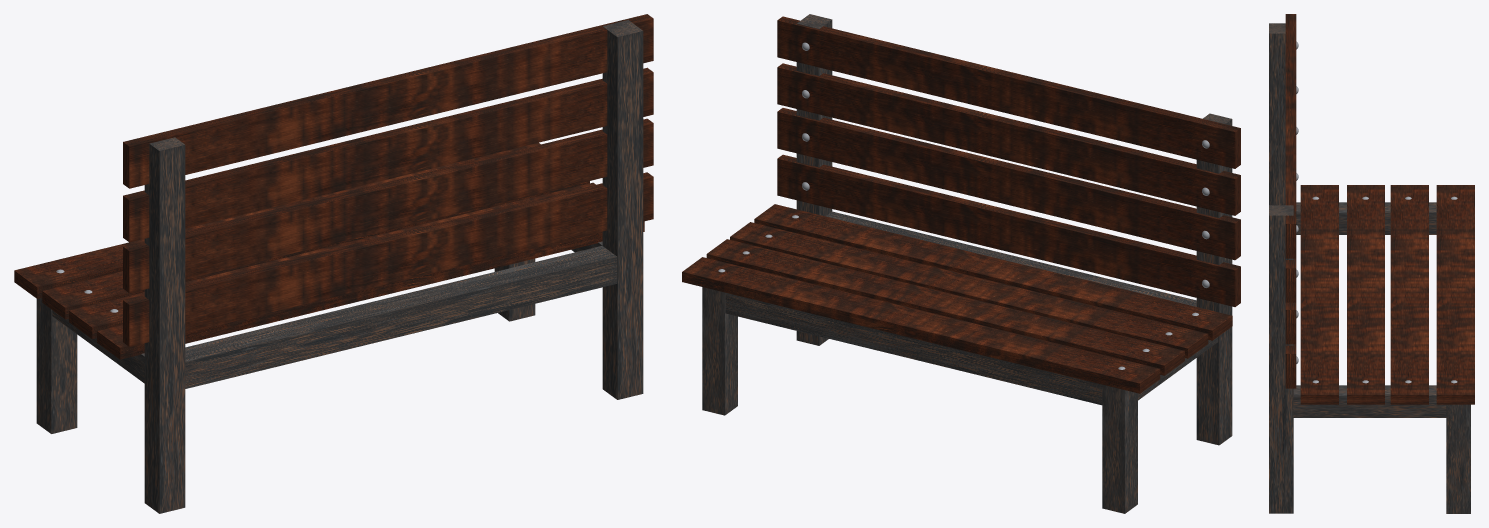
Rendered from bench.glb.
3 renders of one model, left to right at view 1: azimuth 30°, elevation 25°; view 2: azimuth 150°, elevation 25°; view 3: azimuth 270°, elevation 25°, orthographic. The views are drawn at different scales.
Size of the model in its own units: 1.6 by 1.06 by 0.663.
3 materials, 3 textured.
